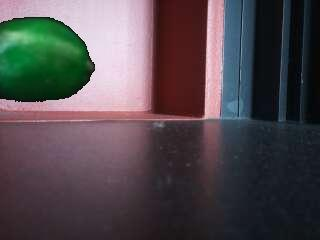Lime: (0, 16, 97, 104)
